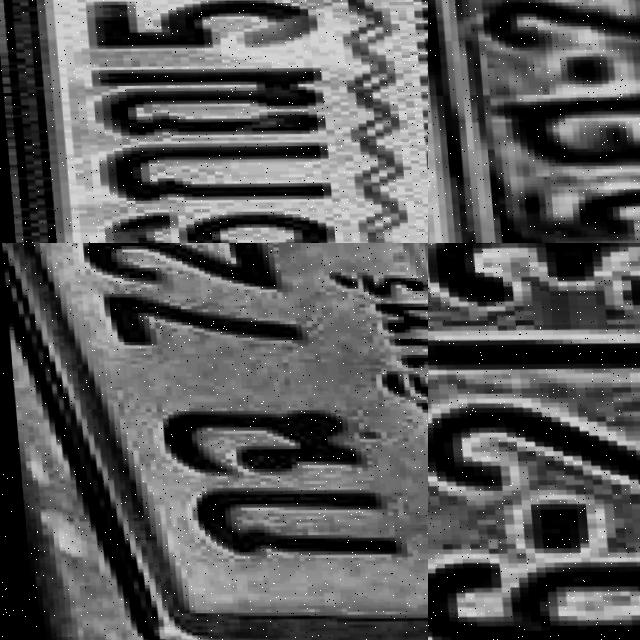license-plate: (0, 243, 428, 640), (0, 0, 428, 243), (428, 243, 640, 640), (428, 0, 640, 243)
